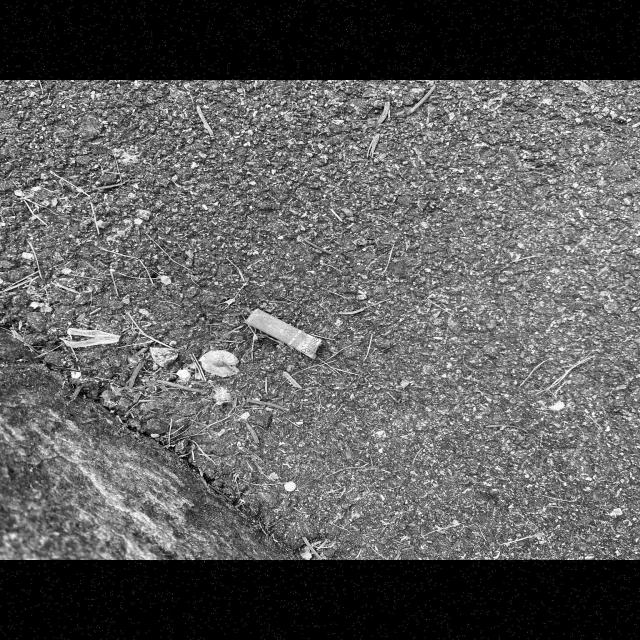other waste: (244, 308, 323, 360)
